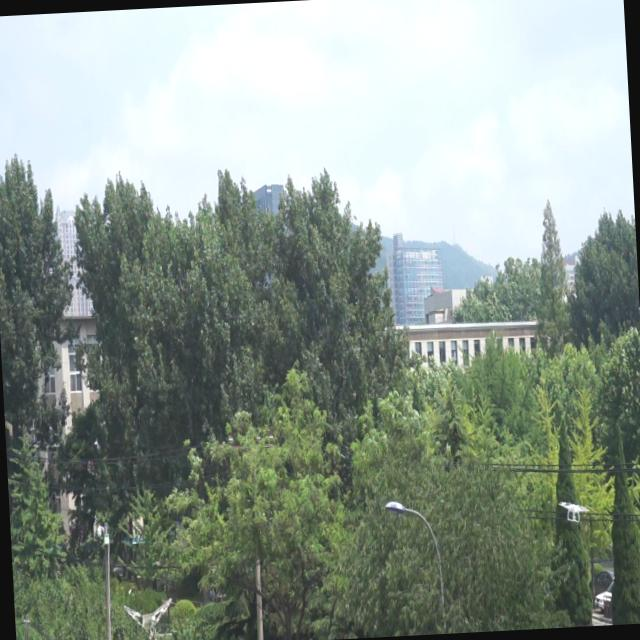drone: (556, 493, 590, 527)
